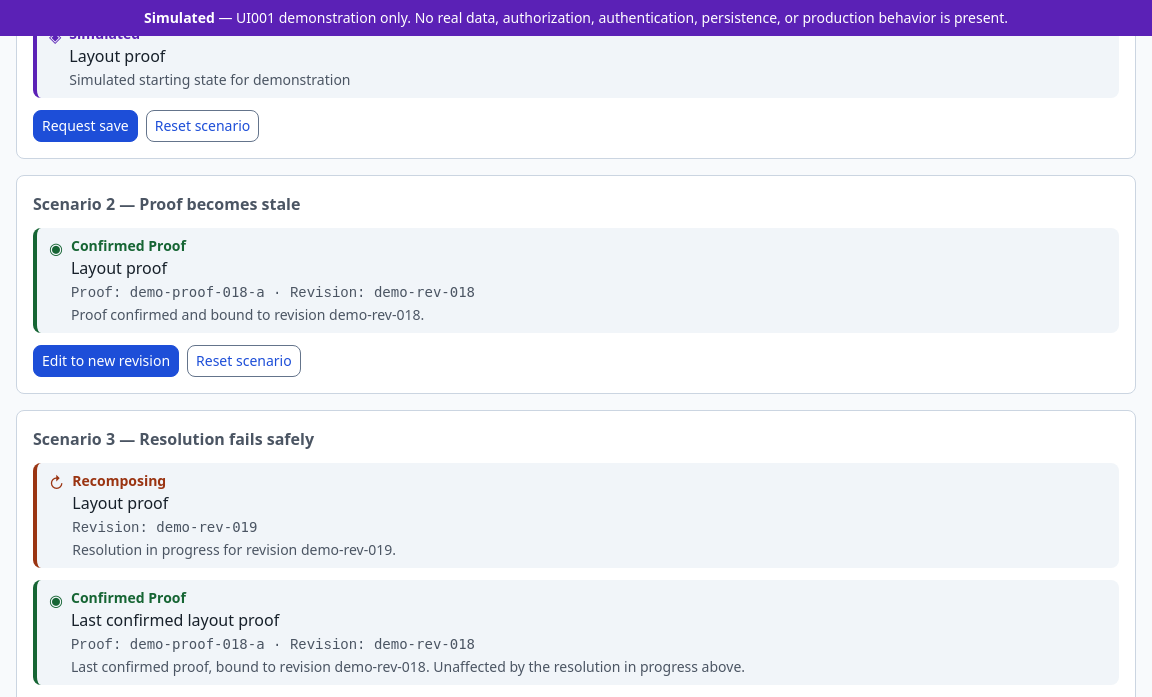
Scenario: Showcase — scenario sequences (§10.4) › Scenario 2: confirmed proof → saved intention AND stale proof shown together
The image size is (1152, 697).
(page scrolled)
Expected: the text "Confirmed Proof" below "Scenario 2 — Proof becomes stale" is shown, [71,236,186,255]
What coordinates should you click on to do the following:
click the button "Edit to new revision"
I would click on:
 (106, 361)
Its box is [33,345,179,377].
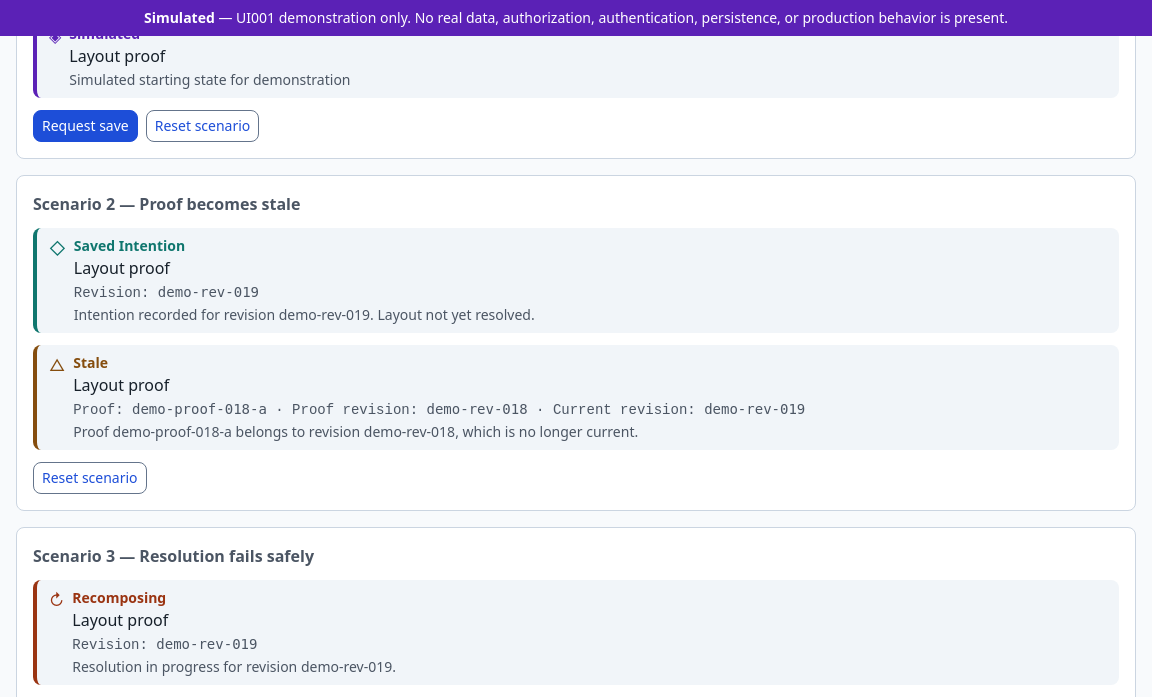
Expected: the text "Saved Intention" is shown, [74,236,185,255]
Expected: the text "Stale" is shown, [73,353,108,372]
Expected: the 1st text "demo-rev-019" is shown, [158,284,259,300]
